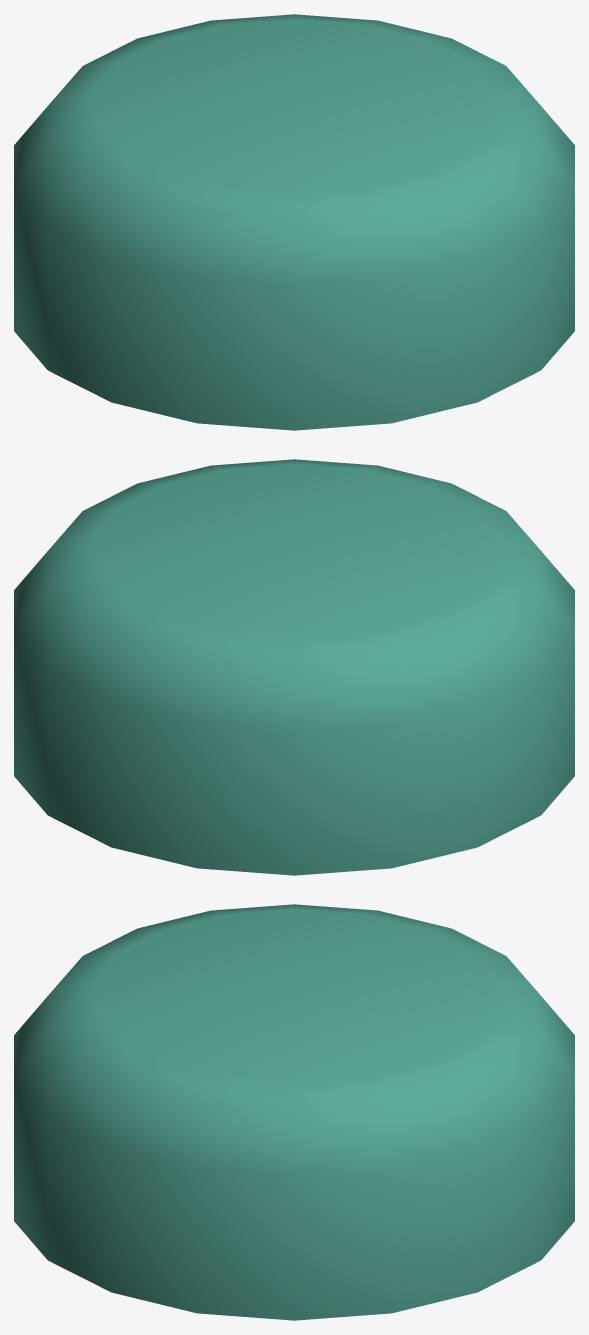
File: ArenaBase_UV.fbx
3 renders of one model, top to bottom at view 1: azimuth 30°, elevation 25°; view 2: azimuth 150°, elevation 25°; view 3: azimuth 270°, elevation 25°, orthographic.
Parts seen in each view (by area): view 1: AreanBase; view 2: AreanBase; view 3: AreanBase.
Boxes of the visible parts, x1=… form: AreanBase: x1=14, y1=14, x2=574, y2=430; AreanBase: x1=14, y1=459, x2=574, y2=875; AreanBase: x1=14, y1=904, x2=574, y2=1320.
Size of the model in its own units: 21.83 by 8.66 by 21.5.
